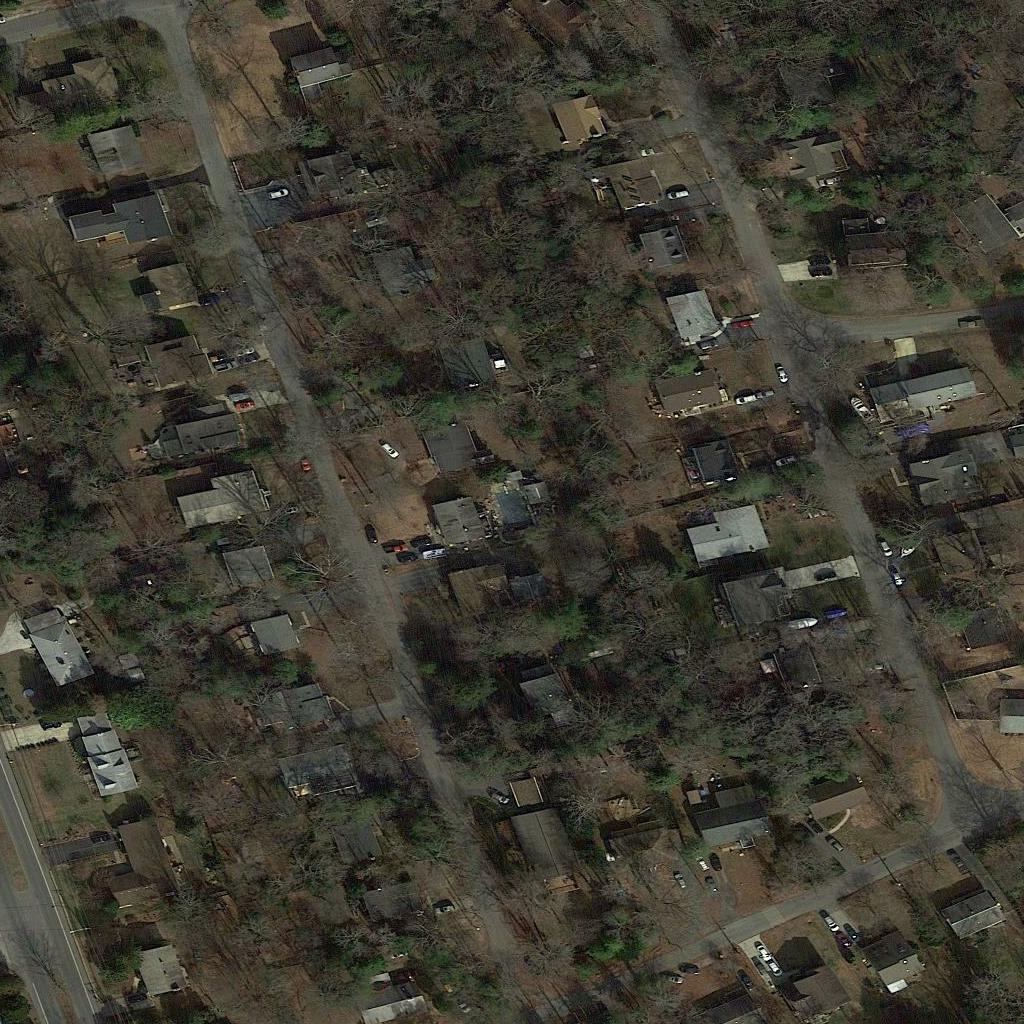ship: (894, 533, 924, 562), (848, 396, 877, 425), (784, 616, 819, 631), (823, 608, 849, 620)
